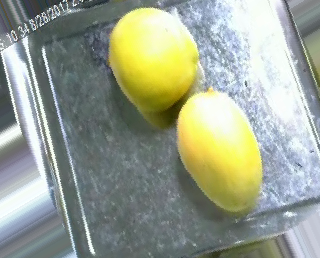Mango: (171, 90, 270, 216), (102, 6, 205, 117)
